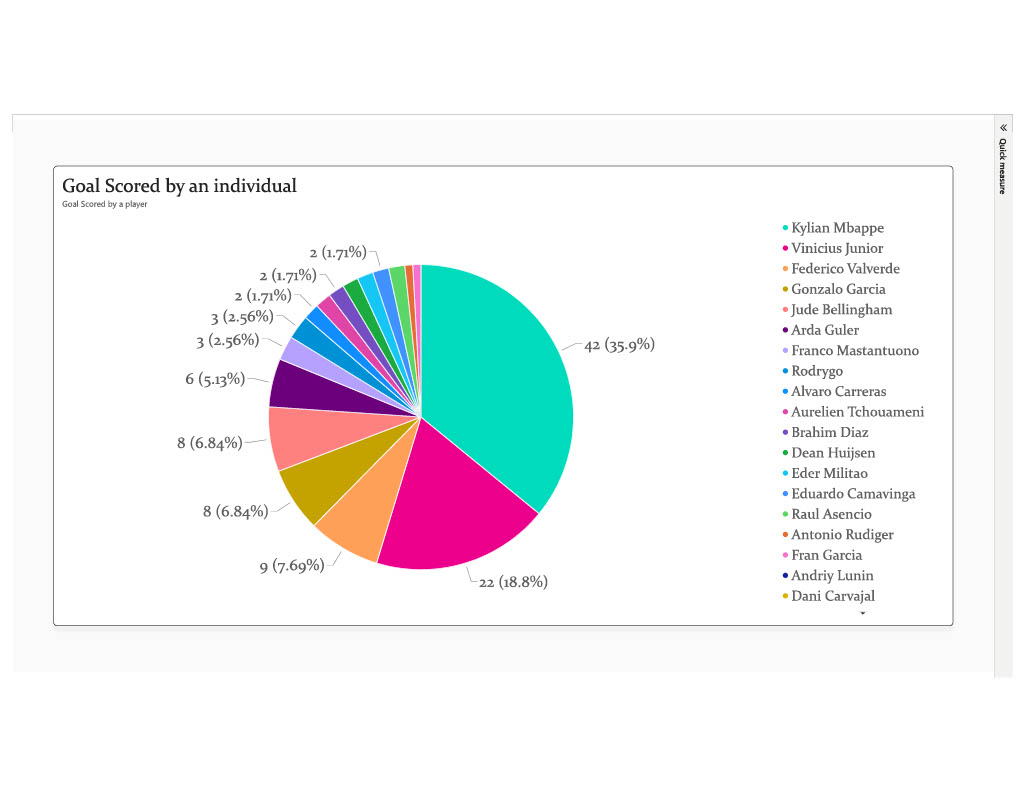

What the dashboard file says about the page in this screenshot:
{"tool":"powerbi","page":{"name":"Page 3","canvas":[1920,1080],"ordinal":2},"visuals":[{"type":"pieChart","title":"Goal Scored by an individual","fields":{"Category":["Player_Stats.Name"],"Y":["Sum(Player_Stats.Goals)"]},"box":[80,90,1760,900],"z":0}]}

Visuals, with their boxes on the page's 1920x1080 design canvas (x1, y1, x2, y2). These are canvas units, not pixel positions in the 1024x791 screenshot, which may show the page scaled, cropped or inside an application window:
"Goal Scored by an individual" pieChart: BBox(80, 90, 1840, 990)
